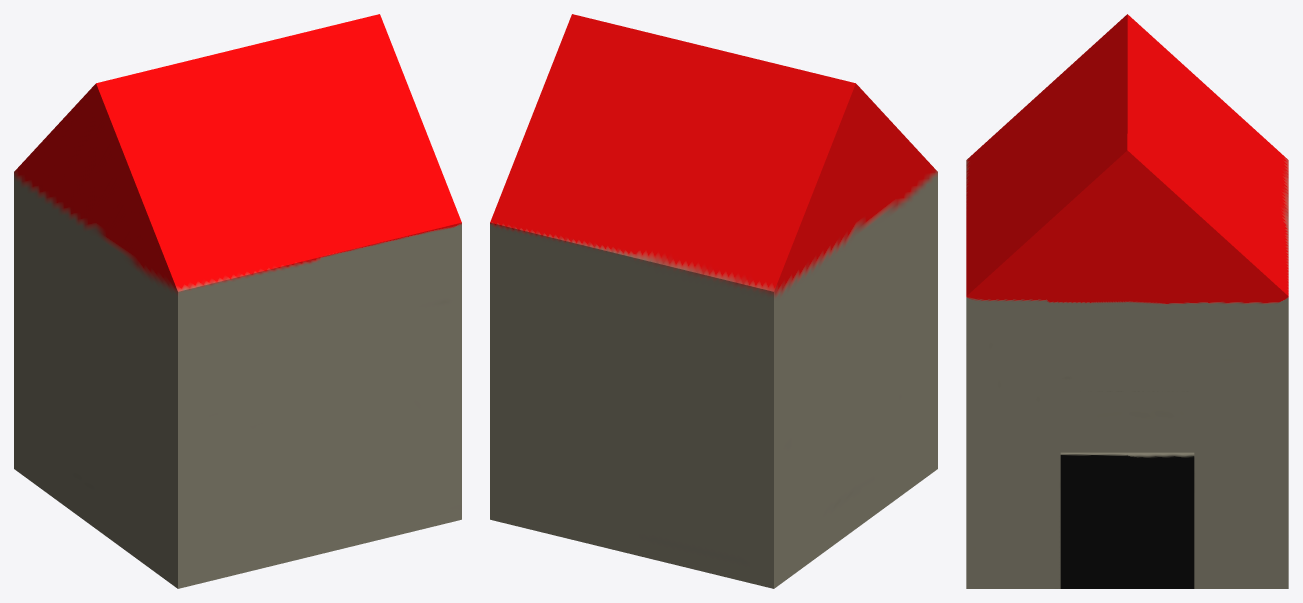
The model's file is maison.fbx.
3 views of the same model, side by side, from view 1: azimuth 30°, elevation 25°; view 2: azimuth 150°, elevation 25°; view 3: azimuth 270°, elevation 25° (orthographic).
Visible parts, largest first — view 1: Cube; view 2: Cube; view 3: Cube.
Boxes of the visible parts, x1=… form: Cube: x1=14, y1=14, x2=461, y2=588; Cube: x1=490, y1=14, x2=937, y2=588; Cube: x1=966, y1=14, x2=1288, y2=588.
Bounding box in the file's own units: 2 × 3 × 2.
1 material, 1 textured.
